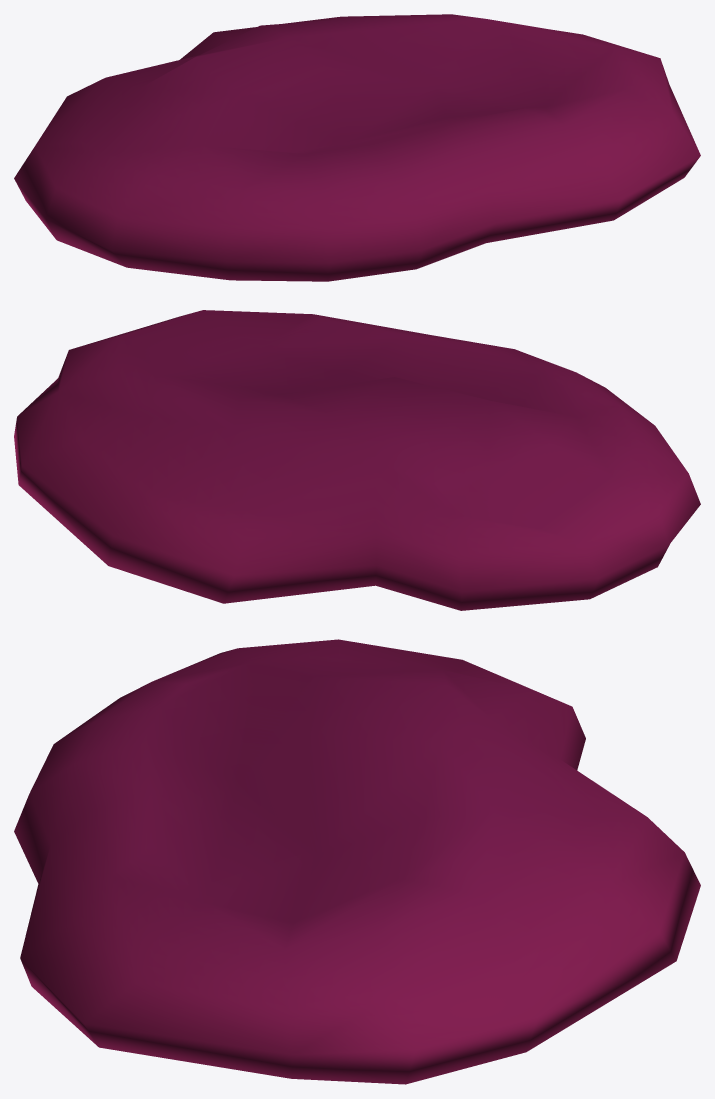
File: Gum_Type2.fbx
3 views of the same model, one above another, from view 1: azimuth 30°, elevation 25°; view 2: azimuth 150°, elevation 25°; view 3: azimuth 270°, elevation 25° (orthographic). The views are drawn at different scales.
Visible parts, largest first — view 1: Gum_Type2; view 2: Gum_Type2; view 3: Gum_Type2.
Part boxes in pixels (<box>): Gum_Type2: <box>14,14,700,281</box>; Gum_Type2: <box>14,310,700,610</box>; Gum_Type2: <box>14,639,700,1084</box>.
Bounding box in the file's own units: 32.2 × 6.01 × 24.54.
